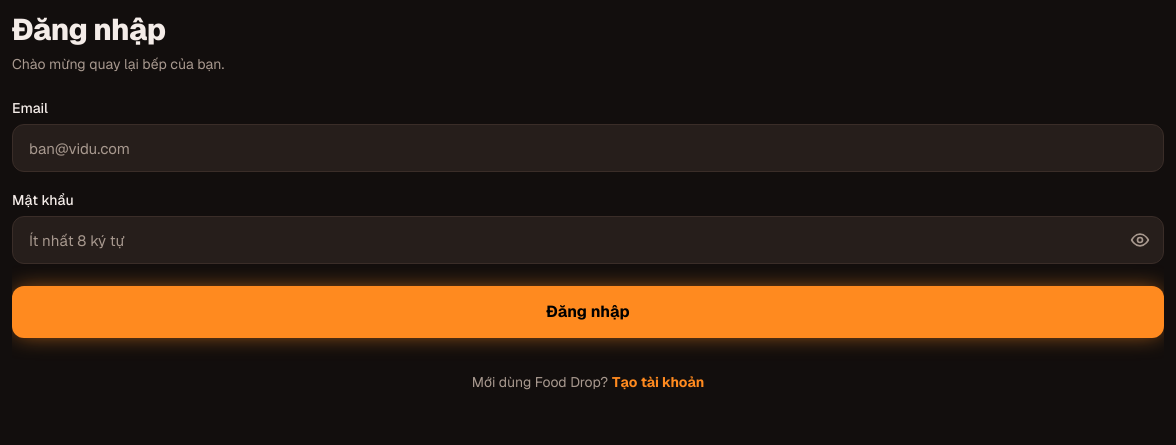
Scenario: LoginForm › shows the server error and stays on the page
In the field labelled "Email": (588, 148) 12,124 -> 1164,172, type "cook@example.test"
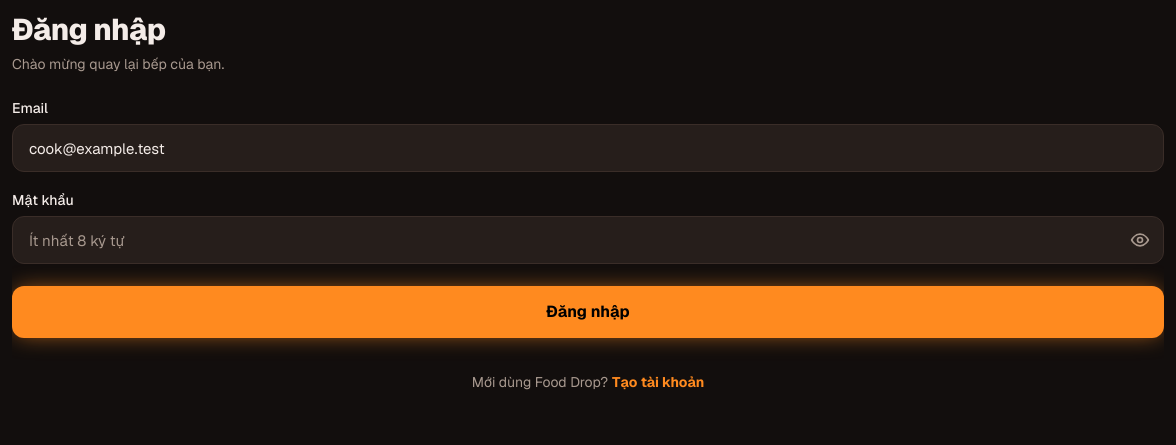
In the password field labelled "Mật khẩu": (588, 240) 12,216 -> 1164,264, type "wrong-password"
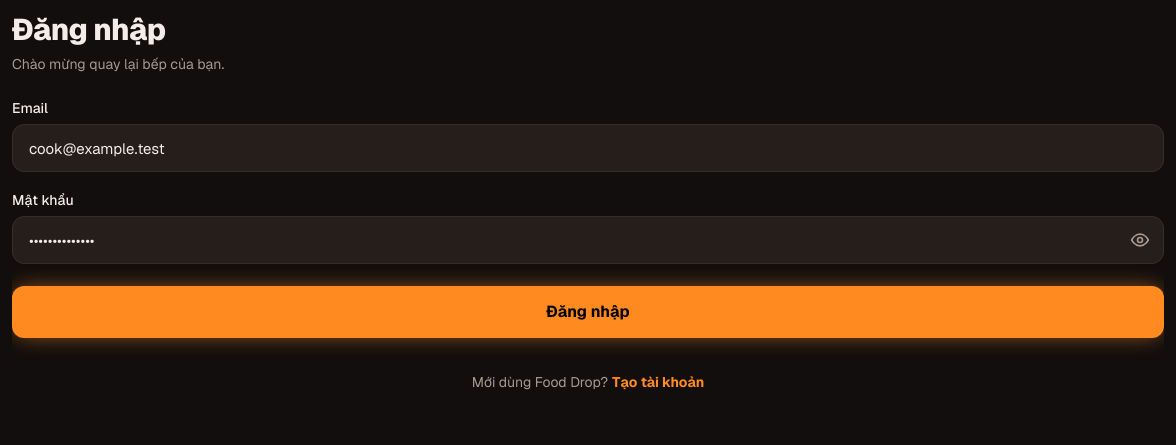
Click the button "Đăng nhập": (588, 312) 12,286 -> 1164,338
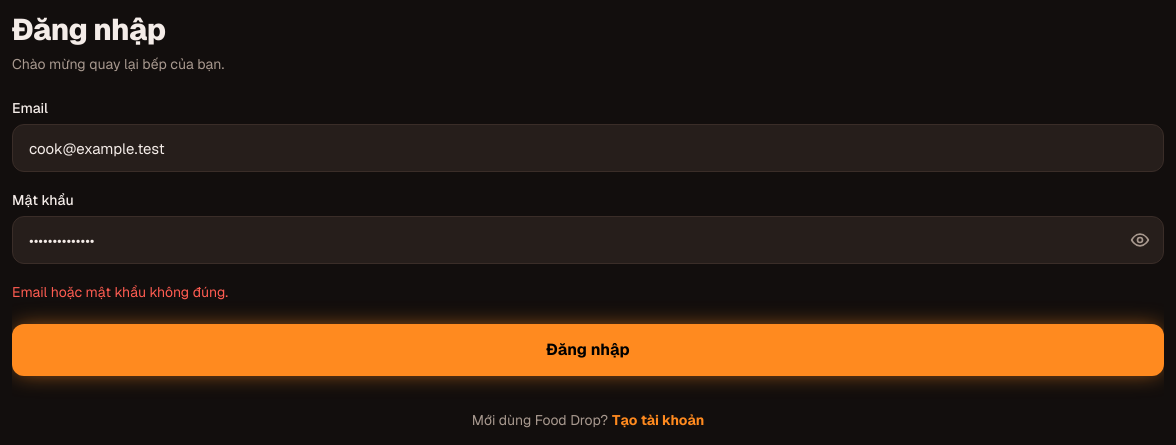
Result: the text "Email hoặc mật khẩu không đúng." is shown at 12,283 -> 228,301
